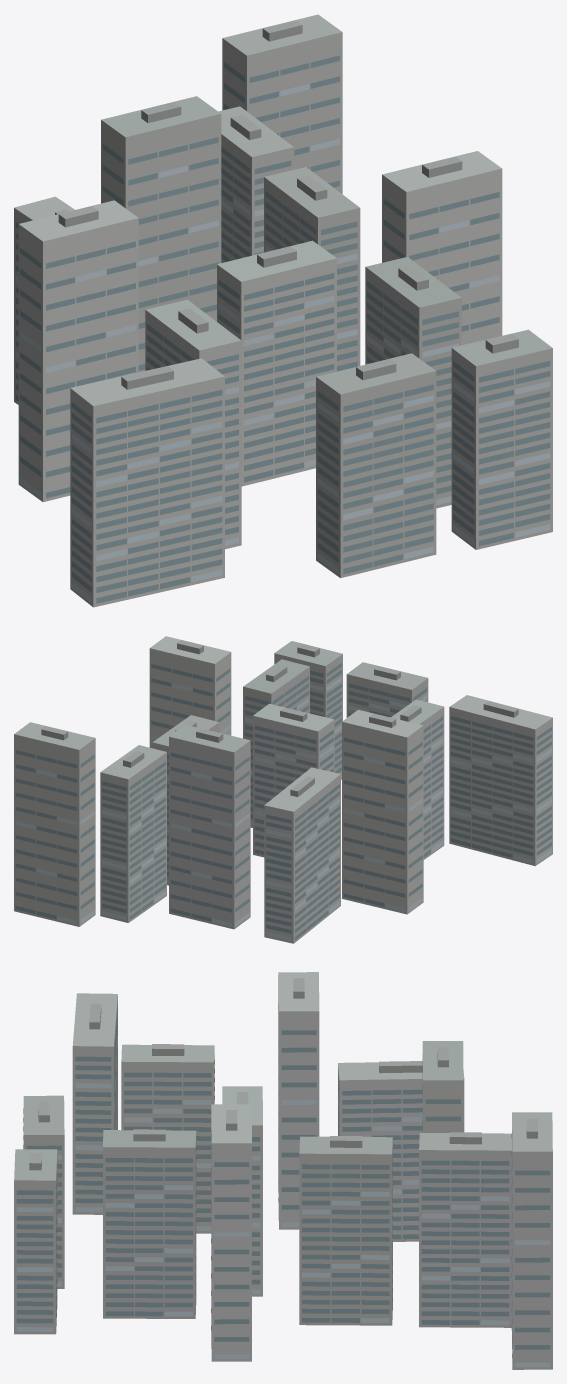
The model's file is apt-a15383702.glb.
3 views of the same model, one above another, from view 1: azimuth 30°, elevation 25°; view 2: azimuth 150°, elevation 25°; view 3: azimuth 270°, elevation 25° (orthographic). The views are drawn at different scales.
Parts seen in each view (by area): view 1: apt-a15383702; view 2: apt-a15383702; view 3: apt-a15383702.
Boxes of the visible parts, left/top/right/bottom form: apt-a15383702: left=14, top=14, right=552, bottom=607; apt-a15383702: left=14, top=636, right=552, bottom=943; apt-a15383702: left=14, top=972, right=552, bottom=1369.
Bounding box in the file's own units: 153 × 77 × 167.
